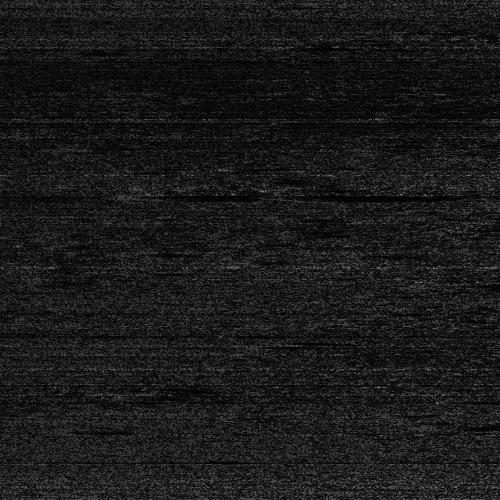rock: (387, 422, 492, 431), (399, 278, 500, 287), (110, 191, 173, 198), (267, 192, 320, 199)
shadow: (294, 192, 422, 199), (142, 191, 233, 198), (440, 422, 500, 431), (462, 278, 500, 287)
